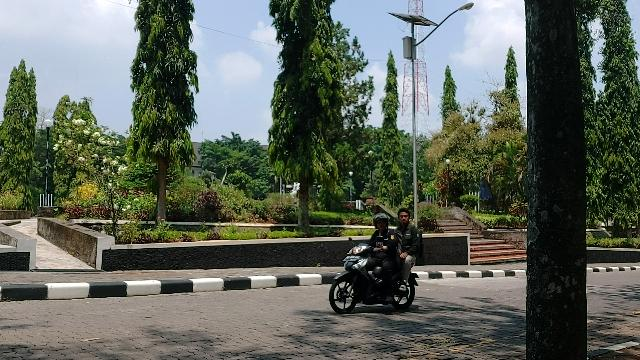helm: (374, 213, 391, 232)
motor: (329, 238, 421, 317)
non-helm: (399, 210, 412, 227)
